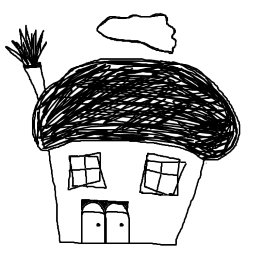closed_window: (133, 145, 187, 200), (58, 148, 114, 194)
clouds: (93, 3, 193, 55)
door: (73, 196, 138, 250)
shaded_roof: (25, 52, 243, 157)
smoking_chimney: (3, 25, 55, 95)
wall: (39, 138, 208, 251)
